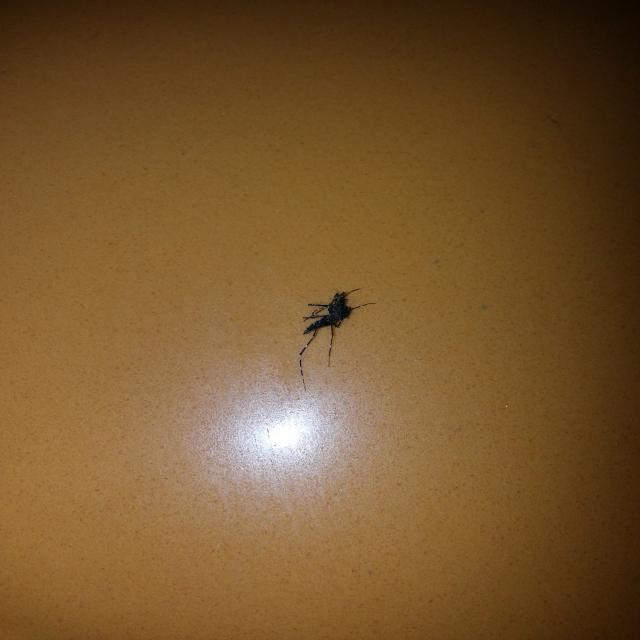albopictus: (280, 281, 385, 392)
